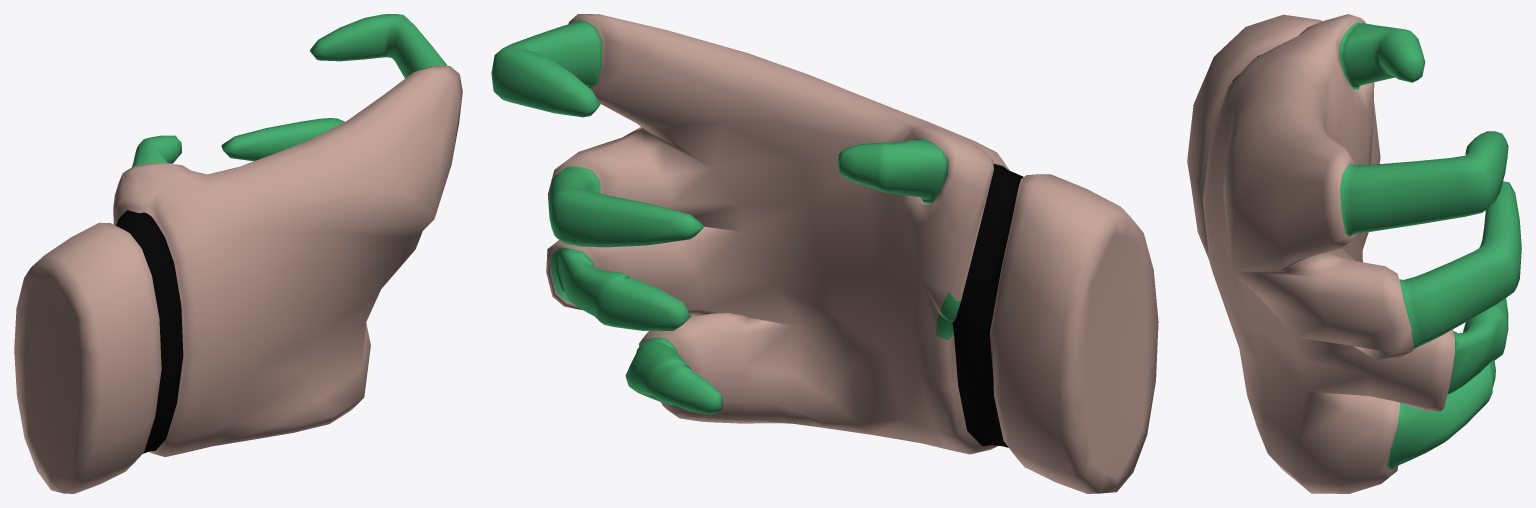
The model's file is RHand.FBX.
3 views of the same model, side by side, from view 1: azimuth 30°, elevation 25°; view 2: azimuth 150°, elevation 25°; view 3: azimuth 270°, elevation 25° (orthographic). The views are drawn at different scales.
Parts seen in each view (by area): view 1: Hand001; view 2: Hand001; view 3: Hand001.
Boxes of the visible parts, x1,y1,x2,y2 form: Hand001: [14, 14, 462, 493]; Hand001: [491, 14, 1158, 493]; Hand001: [1187, 14, 1521, 493].
Bounding box in the file's own units: 11.02 × 7.78 × 5.78.
